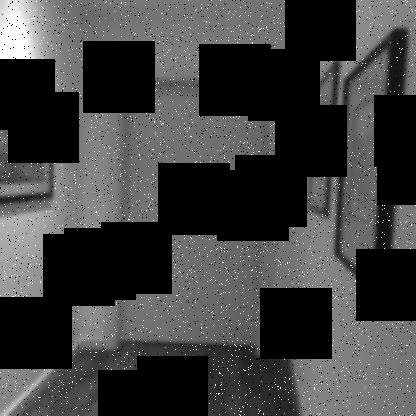Porte: (102, 69, 289, 359)
